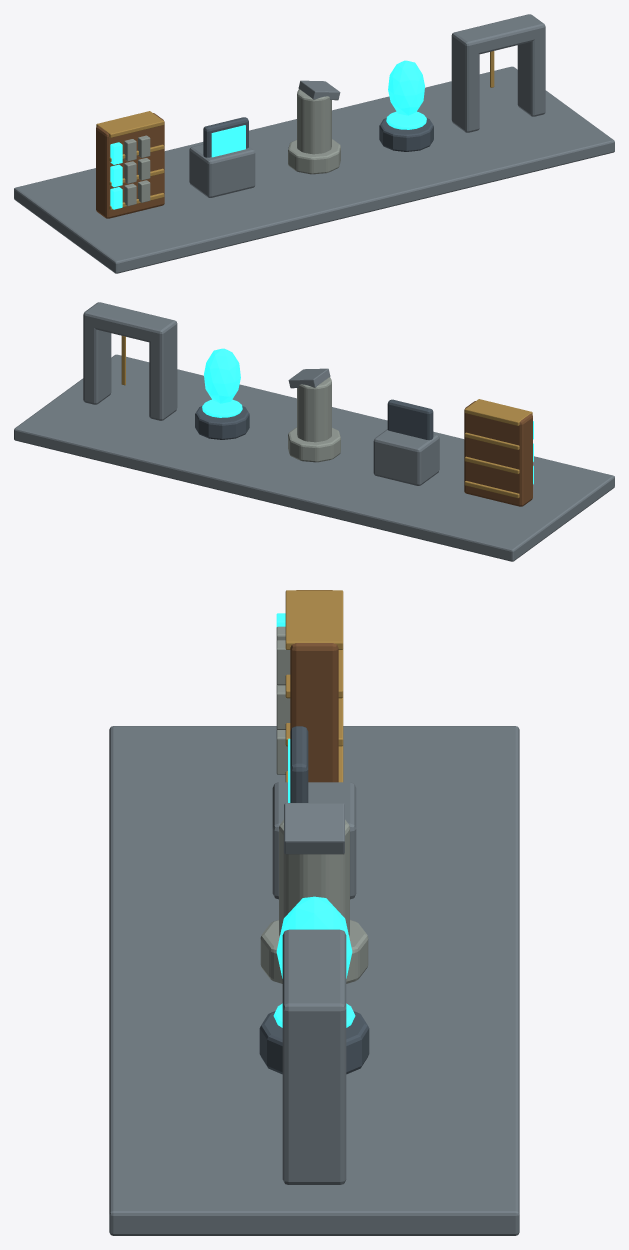
File: Forgotten_Archive_Asset_Roster.glb
3 views of the same model, one above another, from view 1: azimuth 30°, elevation 25°; view 2: azimuth 150°, elevation 25°; view 3: azimuth 270°, elevation 25° (orthographic). The views are drawn at different scales.
Parts seen in each view (by area): view 1: Display_Plinth, Bookshelf_Frame, Archive_Terminal_Base, Data_Vault_L, Data_Vault_Top, Data_Vault_R, Broken_Column, Archive_Hologram, Hologram_Projector, Broken_Column_Base, Shelf.003, Archive_Terminal_Glow (+3 smaller); view 2: Display_Plinth, Bookshelf_Frame, Archive_Terminal_Base, Data_Vault_Top, Data_Vault_L, Data_Vault_R, Broken_Column, Archive_Hologram, Archive_Terminal_Screen, Hologram_Projector, Broken_Column_Base, Shelf.003 (+2 smaller); view 3: Display_Plinth, Data_Vault_R, Data_Vault_Top, Bookshelf_Frame, Broken_Column, Shelf.003, Column_Fracture, Archive_Terminal_Base, Hologram_Projector, Archive_Hologram, Broken_Column_Base, Archive_Terminal_Screen.
Part boxes in pixels (box(x1,y1,x2,y2)): Display_Plinth: box(14, 66, 614, 273); Bookshelf_Frame: box(96, 113, 164, 218); Archive_Terminal_Base: box(189, 144, 255, 197); Data_Vault_L: box(451, 40, 479, 132); Data_Vault_Top: box(451, 14, 545, 55); Data_Vault_R: box(517, 31, 545, 116); Broken_Column: box(297, 89, 331, 154); Archive_Hologram: box(388, 60, 424, 115); Hologram_Projector: box(379, 118, 433, 151); Broken_Column_Base: box(288, 139, 340, 174); Shelf.003: box(96, 111, 164, 137); Archive_Terminal_Glow: box(211, 125, 245, 157); Display_Plinth: box(14, 354, 614, 561); Bookshelf_Frame: box(464, 401, 532, 506); Archive_Terminal_Base: box(373, 429, 439, 485); Data_Vault_Top: box(83, 302, 177, 343); Data_Vault_L: box(149, 329, 177, 420); Data_Vault_R: box(83, 320, 111, 404); Broken_Column: box(297, 377, 331, 442); Archive_Hologram: box(204, 348, 240, 403); Archive_Terminal_Screen: box(387, 399, 433, 440); Hologram_Projector: box(195, 406, 249, 439); Broken_Column_Base: box(288, 427, 340, 462); Shelf.003: box(464, 399, 532, 425); Display_Plinth: box(109, 726, 519, 1235); Data_Vault_R: box(282, 1019, 346, 1184); Data_Vault_Top: box(282, 929, 346, 1030); Bookshelf_Frame: box(290, 590, 338, 782); Broken_Column: box(279, 819, 349, 935); Shelf.003: box(285, 590, 343, 649); Column_Fracture: box(284, 803, 344, 854); Archive_Terminal_Base: box(272, 782, 356, 899); Hologram_Projector: box(259, 1011, 369, 1074); Archive_Hologram: box(276, 896, 352, 978); Broken_Column_Base: box(260, 920, 368, 983); Archive_Terminal_Screen: box(290, 726, 308, 802).
Bounding box in the file's own units: 15.2 × 3 × 5.4.
